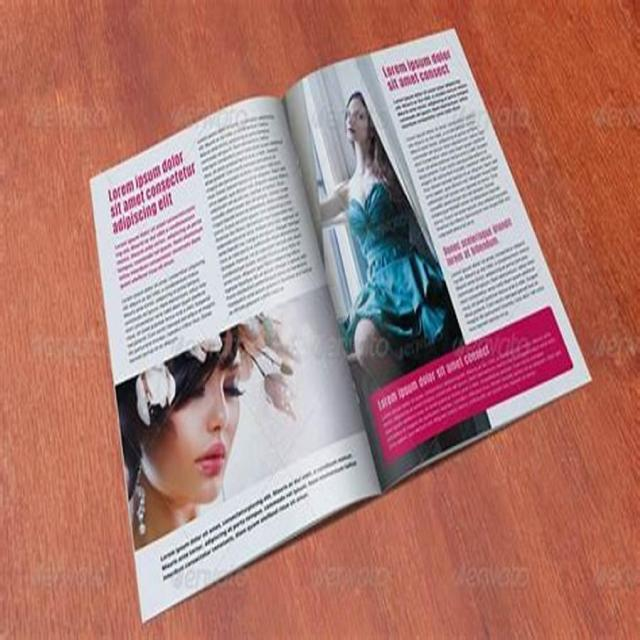paper: (87, 27, 594, 626)
